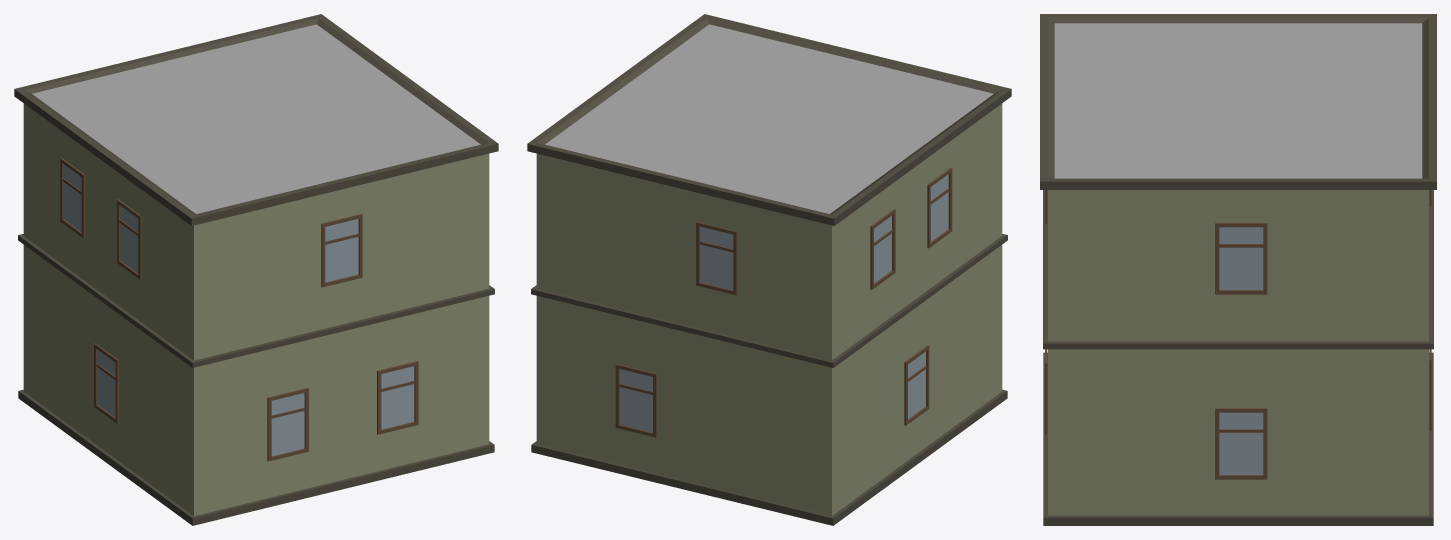
Rendered from BuildingSecondFloorCeiling.fbx.
3 views of the same model, side by side, from view 1: azimuth 30°, elevation 25°; view 2: azimuth 150°, elevation 25°; view 3: azimuth 270°, elevation 25° (orthographic). The views are drawn at different scales.
Parts seen in each view (by area): view 1: Building; view 2: Building; view 3: Building.
Boxes of the visible parts, bbox=[...] form: Building: bbox=[14, 14, 498, 525]; Building: bbox=[527, 14, 1011, 525]; Building: bbox=[1040, 14, 1436, 525].
Size of the model in its own units: 833 by 801 by 833.
